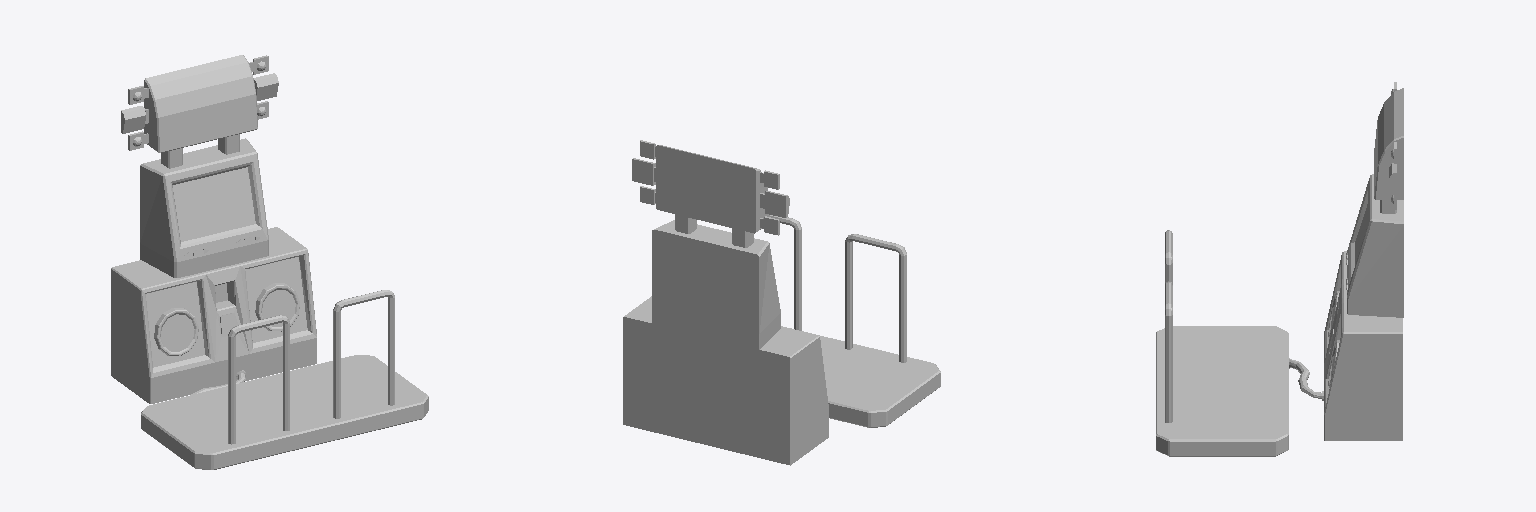
Rendered from machine.obj.
3 views of the same model, side by side, from view 1: azimuth 30°, elevation 25°; view 2: azimuth 150°, elevation 25°; view 3: azimuth 270°, elevation 25° (orthographic).
Parts seen in each view (by area): view 1: pCylinder13_lambert3_0; view 2: pCylinder13_lambert3_0; view 3: pCylinder13_lambert3_0.
Boxes of the visible parts, x1=… form: pCylinder13_lambert3_0: x1=111, y1=55, x2=428, y2=469; pCylinder13_lambert3_0: x1=623, y1=140, x2=940, y2=465; pCylinder13_lambert3_0: x1=1156, y1=82, x2=1403, y2=456.
Bounding box in the file's own units: 5.46 × 6.41 × 5.01.